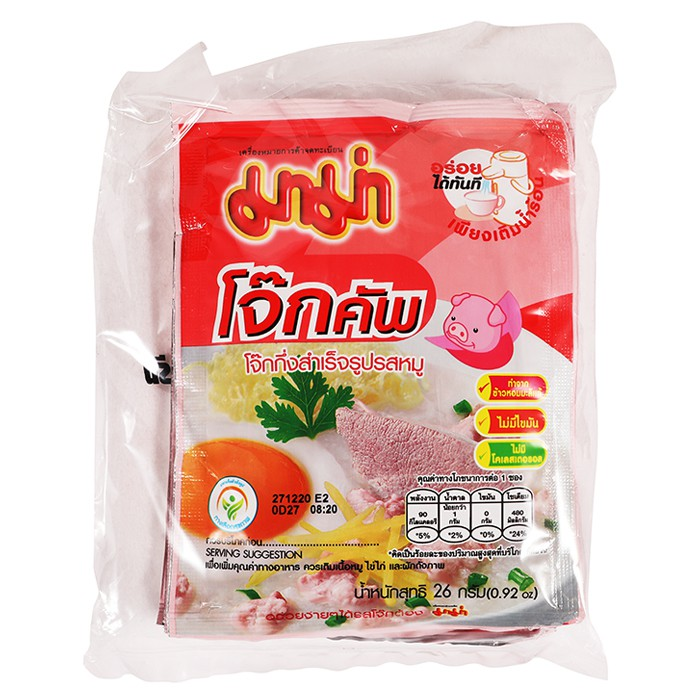Snack: (83, 17, 640, 690)
